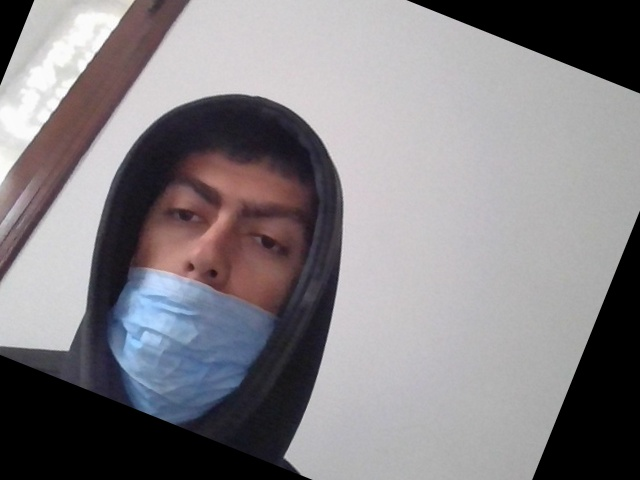mask_weared_incorrect: (115, 142, 313, 425)
